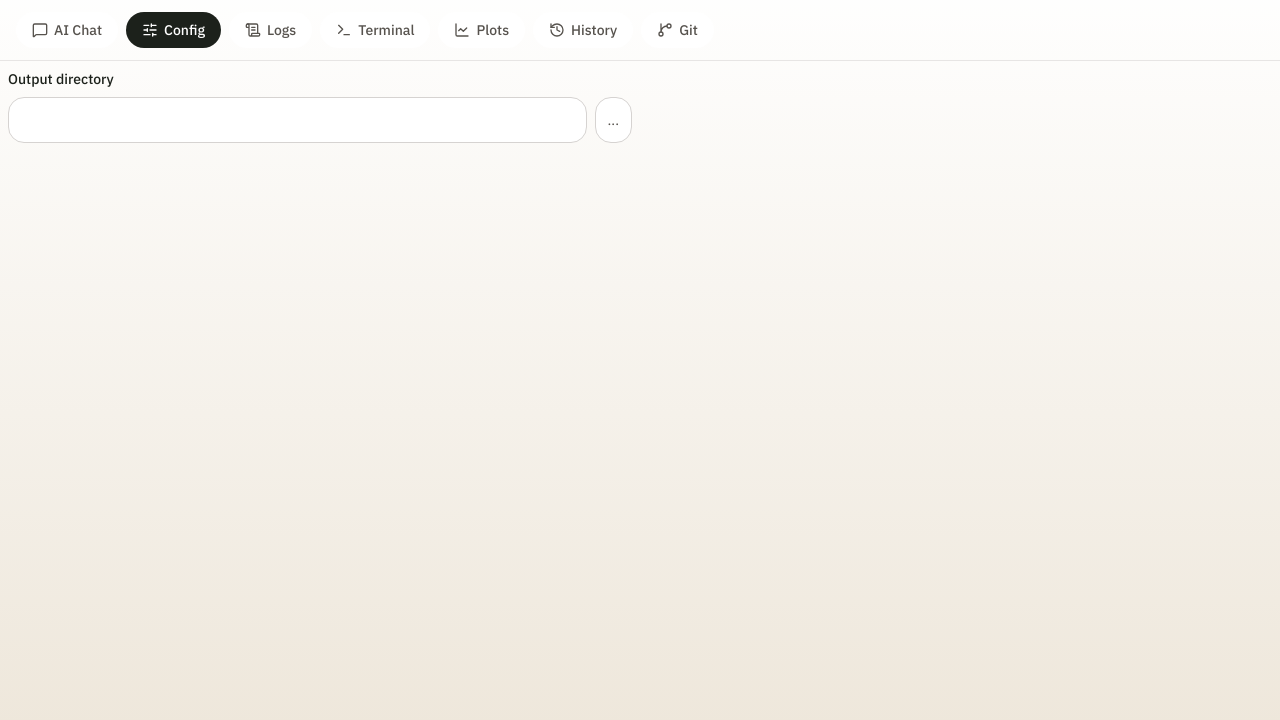
Test: BottomPanel › config Browse button falls back to in-app modal on native dialog failure (directory_browser)
The image size is (1280, 720).
Click the button titled "Browse filesystem": [613, 120] box [595,97,632,143]
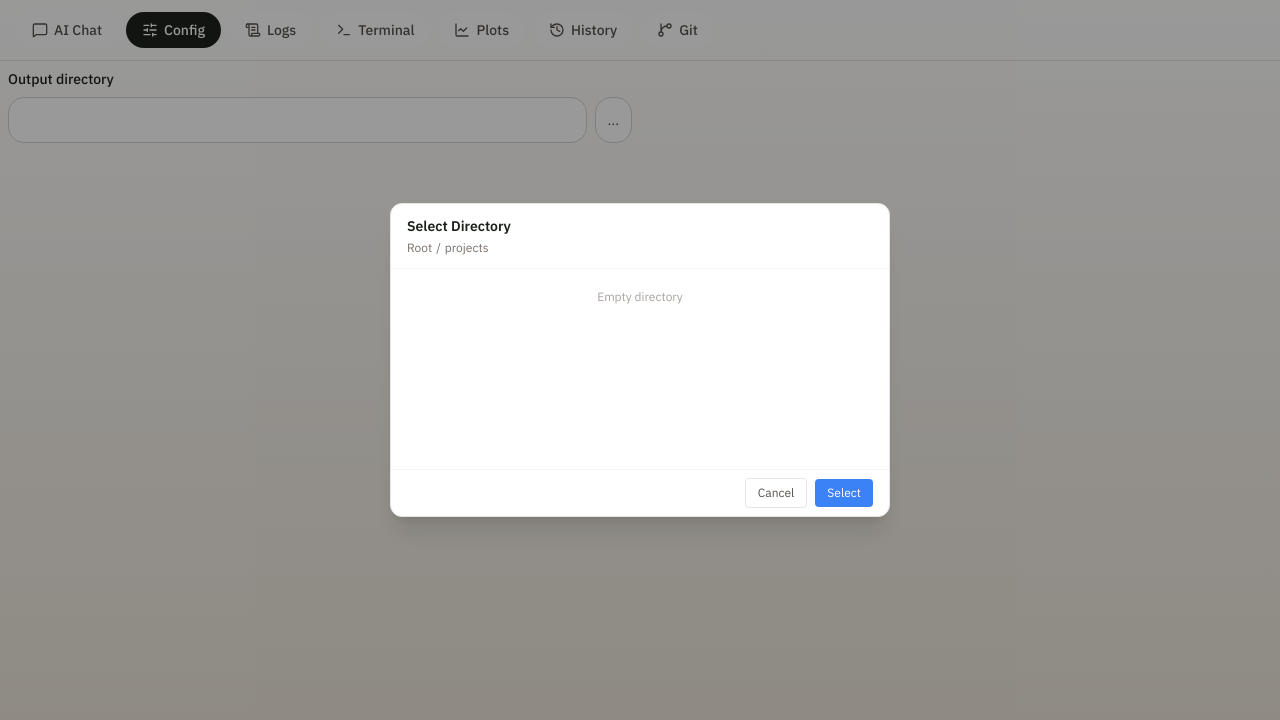
expect the text "Select Directory" is shown: met, box [407,217,511,235]
